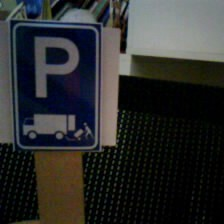load: (5, 16, 114, 154)
